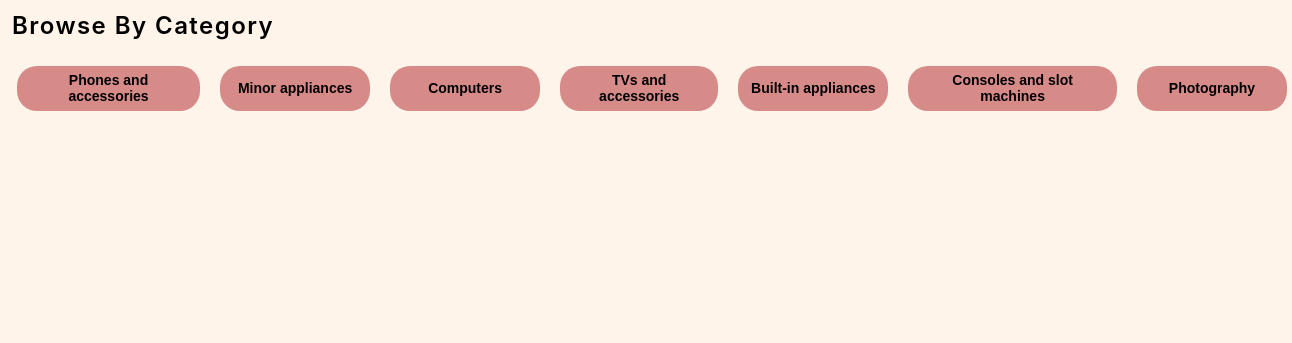
Test: CategorySection › collapses an expanded category on second click
Click the button "Phones and accessories" at coordinates (109, 88), box [17,66,200,111]
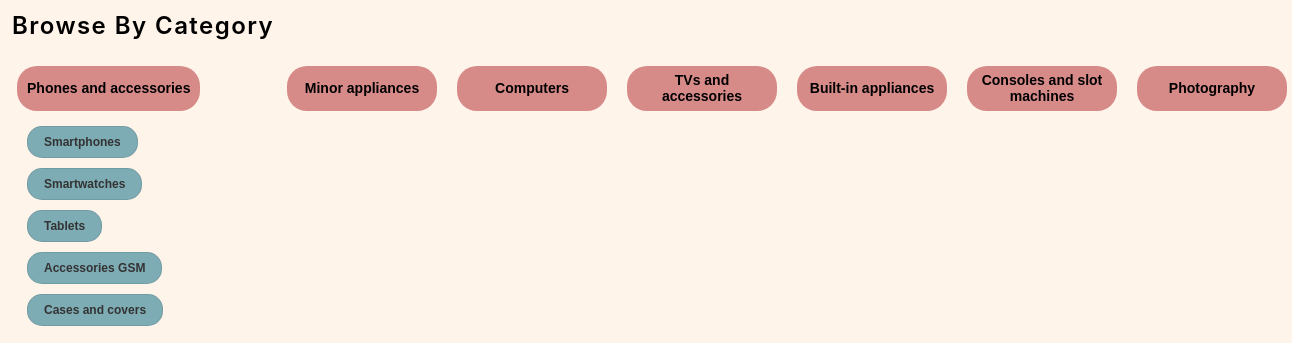
Click the button "Phones and accessories" at coordinates (109, 88), box [17,66,200,111]
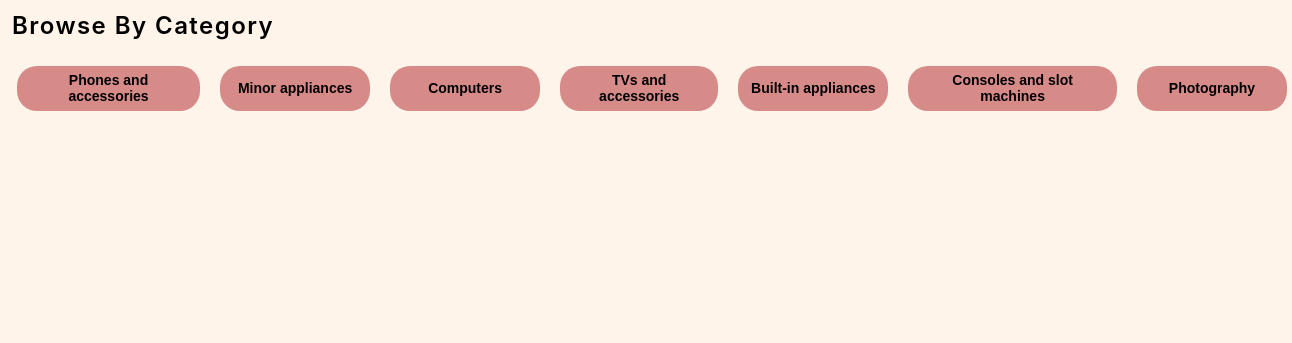
expect the text "Smartphones" is gone: met
